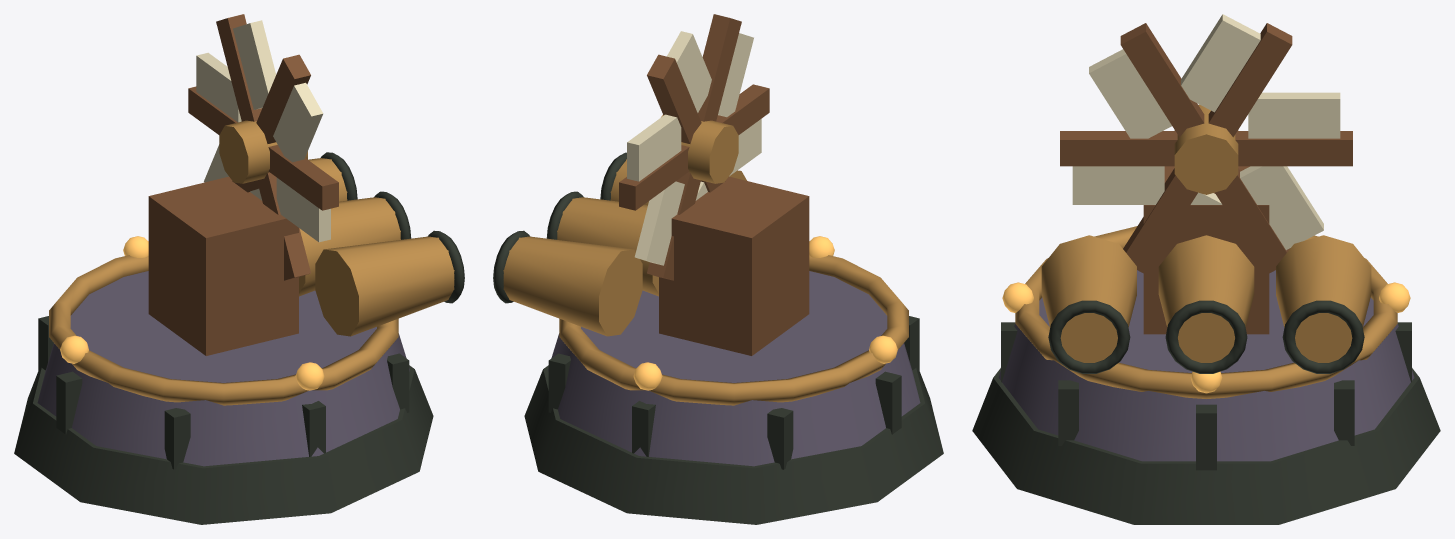
The model's file is tower_wind_windRotor_ultimate.glb.
3 views of the same model, side by side, from view 1: azimuth 30°, elevation 25°; view 2: azimuth 150°, elevation 25°; view 3: azimuth 270°, elevation 25° (orthographic). The views are drawn at different scales.
Parts seen in each view (by area): view 1: stone_1, foot_0, mill_15, air_nozzle_29, rim_2, air_nozzle_31, hub_16, sail_22, sail_20, spar_23, spar_21, sail_18 (+15 smaller); view 2: stone_1, foot_0, mill_15, air_nozzle_33, rim_2, air_nozzle_31, hub_16, spar_21, sail_18, spar_19, sail_28, spar_17 (+15 smaller); view 3: foot_0, stone_1, rim_2, air_nozzle_31, air_nozzle_29, air_nozzle_33, mill_15, sail_18, sail_20, spar_23, hub_16, sail_28 (+17 smaller).
Part boxes in pixels (x1,y1,x2,y2): stone_1: [37, 271, 409, 466]; foot_0: [14, 365, 433, 524]; mill_15: [148, 176, 298, 355]; air_nozzle_29: [315, 236, 454, 336]; rim_2: [49, 255, 398, 405]; air_nozzle_31: [299, 197, 400, 296]; hub_16: [219, 120, 307, 183]; sail_22: [273, 82, 323, 162]; sail_20: [233, 20, 276, 109]; spar_23: [268, 145, 338, 210]; spar_21: [256, 54, 310, 143]; sail_18: [196, 52, 241, 122]; stone_1: [548, 271, 920, 466]; foot_0: [524, 365, 943, 524]; mill_15: [659, 176, 809, 355]; air_nozzle_33: [503, 236, 642, 336]; rim_2: [559, 255, 908, 405]; air_nozzle_31: [557, 197, 658, 296]; hub_16: [661, 115, 738, 183]; spar_21: [698, 14, 741, 121]; sail_18: [627, 114, 681, 181]; spar_19: [647, 54, 701, 143]; sail_28: [634, 181, 684, 265]; spar_17: [619, 145, 689, 210]; foot_0: [972, 368, 1440, 524]; stone_1: [998, 270, 1414, 461]; rim_2: [1015, 226, 1397, 398]; air_nozzle_31: [1158, 235, 1254, 362]; air_nozzle_29: [1041, 235, 1136, 362]; air_nozzle_33: [1276, 235, 1371, 362]; mill_15: [1143, 166, 1269, 334]; sail_18: [1248, 92, 1340, 138]; sail_20: [1181, 14, 1260, 112]; spar_23: [1060, 131, 1177, 166]; hub_16: [1174, 104, 1238, 194]; sail_28: [1240, 166, 1323, 250].
Bounding box in the file's own units: 0.5326 × 0.5736 × 0.56.
